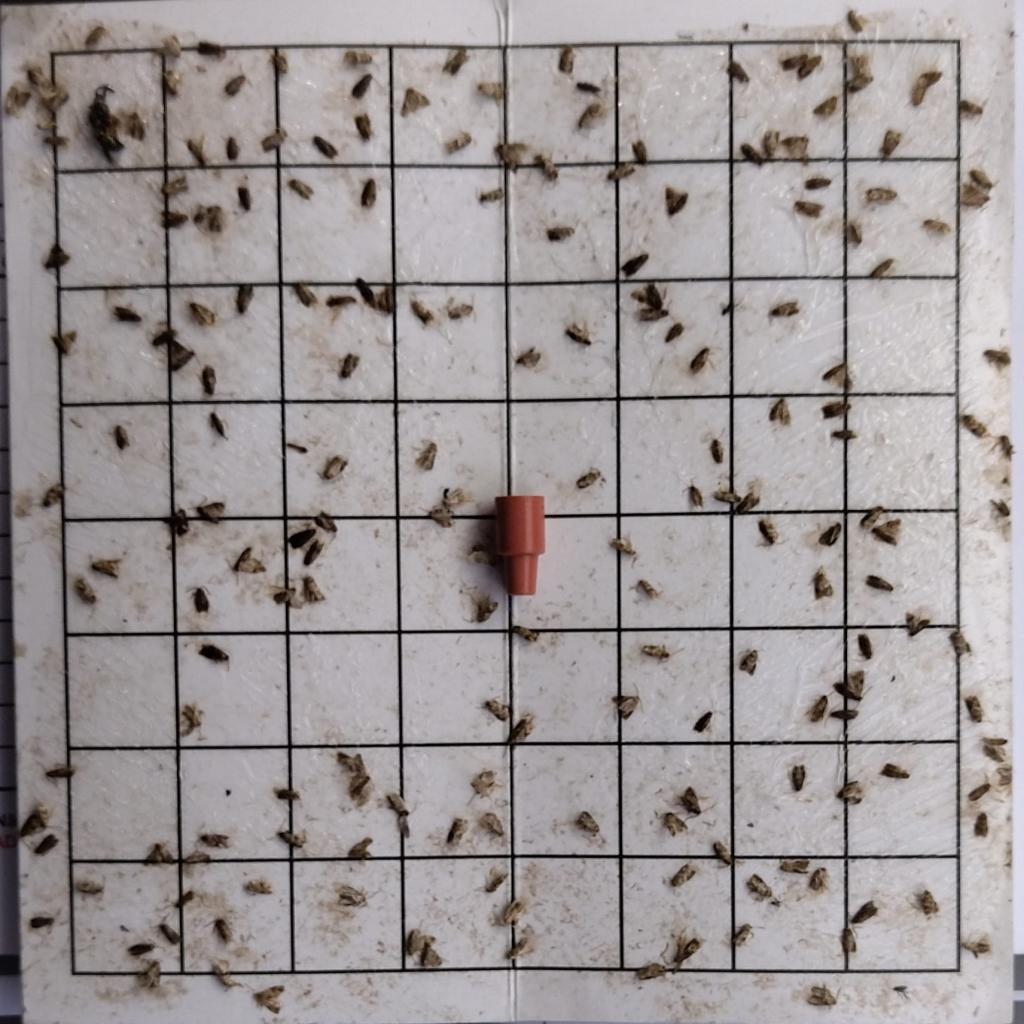grape_moth: (501, 706, 544, 752), (832, 666, 874, 711), (661, 930, 704, 973), (190, 200, 232, 242), (224, 546, 266, 584), (904, 66, 942, 108), (818, 356, 864, 390), (252, 980, 290, 1018), (606, 682, 642, 722), (909, 880, 943, 920), (490, 138, 532, 170), (272, 822, 314, 854), (381, 788, 418, 824), (205, 958, 242, 994), (130, 956, 167, 992), (346, 772, 379, 812), (874, 123, 906, 164), (190, 822, 233, 852), (37, 758, 79, 788), (957, 926, 994, 960), (765, 292, 802, 326), (463, 769, 496, 807), (354, 171, 382, 215), (404, 294, 438, 330), (334, 748, 376, 777), (0, 82, 32, 120), (181, 132, 213, 170), (560, 316, 598, 348), (140, 836, 178, 868), (575, 98, 608, 134), (189, 494, 226, 526), (461, 592, 498, 624), (685, 342, 722, 374), (264, 581, 301, 613), (704, 424, 732, 466), (445, 290, 479, 324), (37, 78, 69, 114), (222, 64, 254, 100), (48, 326, 80, 362), (637, 642, 685, 666), (342, 834, 378, 866), (178, 698, 205, 740), (608, 534, 640, 569), (532, 152, 564, 187), (440, 47, 476, 78), (973, 730, 1010, 760), (72, 871, 108, 901), (476, 692, 512, 722), (86, 554, 124, 582), (955, 409, 993, 437), (706, 477, 744, 505), (399, 86, 432, 118), (653, 808, 690, 836), (957, 184, 994, 212), (256, 122, 288, 154), (288, 277, 320, 309), (778, 133, 811, 164), (402, 926, 436, 956), (964, 776, 998, 806), (752, 520, 788, 548), (542, 218, 578, 246), (790, 196, 830, 221), (807, 564, 834, 601), (186, 299, 218, 330), (37, 479, 68, 511), (442, 125, 474, 156), (124, 102, 150, 140), (806, 983, 844, 1009), (236, 874, 274, 900), (794, 51, 827, 80), (862, 184, 898, 210), (868, 518, 901, 546), (765, 394, 792, 428), (980, 344, 1014, 371), (80, 22, 110, 52), (156, 66, 184, 98), (22, 60, 50, 92), (70, 577, 98, 609), (298, 572, 326, 604), (314, 454, 346, 482), (666, 862, 698, 890), (741, 872, 773, 900), (426, 502, 458, 530), (286, 176, 318, 204), (271, 779, 304, 806), (152, 206, 189, 230), (840, 70, 877, 94), (600, 160, 637, 184), (507, 620, 544, 644), (840, 215, 866, 249), (964, 164, 998, 190), (836, 778, 866, 807), (412, 440, 440, 471), (812, 91, 840, 122), (504, 935, 536, 962), (498, 896, 525, 928), (333, 884, 369, 908), (472, 78, 509, 101), (178, 850, 216, 872), (160, 173, 192, 199), (506, 344, 538, 370), (733, 648, 760, 678), (946, 626, 973, 656), (778, 47, 808, 74), (205, 910, 232, 940), (156, 32, 184, 60), (482, 866, 510, 894), (802, 696, 829, 725), (474, 184, 504, 210), (875, 762, 914, 782), (760, 127, 782, 162), (712, 837, 736, 869), (954, 96, 986, 120), (33, 800, 60, 828), (480, 811, 508, 838), (866, 252, 893, 280), (36, 129, 72, 150), (916, 216, 950, 238), (446, 816, 470, 847), (963, 692, 986, 724), (573, 809, 600, 836), (418, 940, 444, 968), (110, 420, 132, 453), (969, 810, 992, 841), (682, 478, 704, 510), (437, 484, 469, 506), (554, 44, 576, 76), (576, 465, 605, 489), (338, 49, 376, 67), (836, 924, 858, 955), (634, 961, 666, 981), (730, 920, 752, 948), (842, 6, 864, 34), (856, 504, 882, 527), (808, 866, 830, 893), (778, 856, 810, 874), (845, 51, 870, 74), (638, 578, 660, 602)
